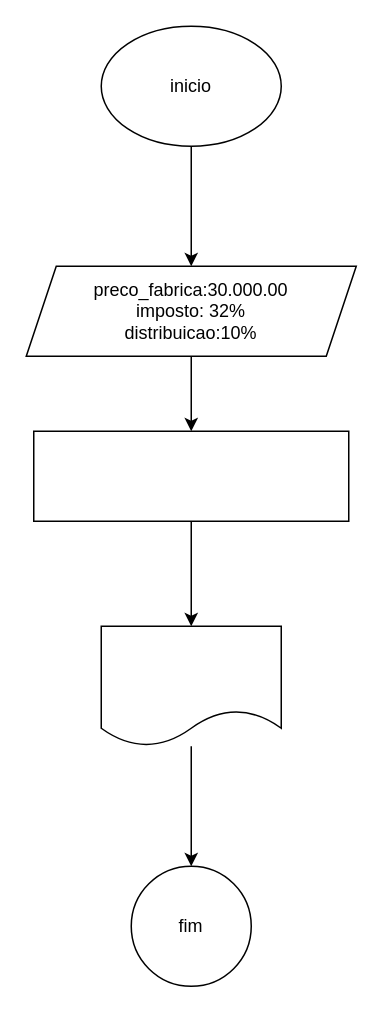
The diagram is 383 pixels wide and 1013 high, and some of its shapes have lost their labels. The centre of each missing label's shape, as x and y in pixels:
"Preço = (preco_fabrica + imposto) + distribuicao" belongs at [190,475].
"Resultado" belongs at [190,685].
